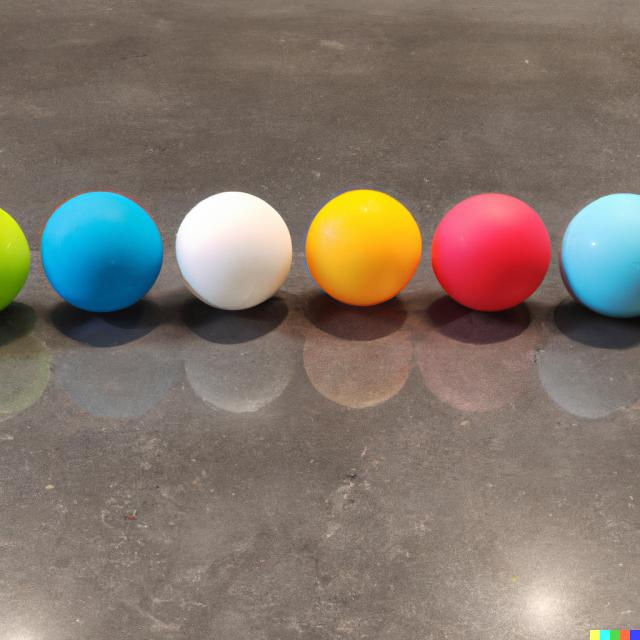blue-golf-balls: (42, 192, 164, 312), (561, 195, 640, 318)
green-golf-balls: (0, 207, 31, 314)
red-golf-balls: (433, 193, 552, 311)
white-golf-balls: (175, 191, 292, 311)
yellow-golf-balls: (307, 189, 422, 305)
